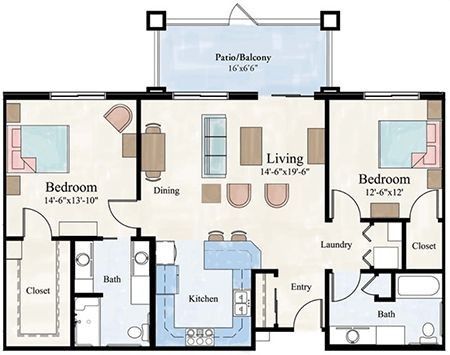wall: (2, 91, 7, 350), (442, 93, 445, 348), (4, 347, 256, 350), (324, 92, 329, 222), (327, 344, 444, 349), (150, 236, 155, 348), (70, 240, 75, 352), (106, 92, 171, 100), (136, 96, 141, 195), (251, 270, 256, 348), (5, 92, 47, 100), (314, 92, 356, 100), (361, 269, 444, 273), (325, 269, 329, 349), (51, 235, 102, 241), (402, 218, 407, 273), (229, 91, 256, 99), (252, 327, 294, 332), (71, 292, 105, 297), (391, 270, 396, 301), (360, 218, 409, 221), (252, 268, 279, 273), (4, 236, 24, 241), (375, 297, 397, 301)
